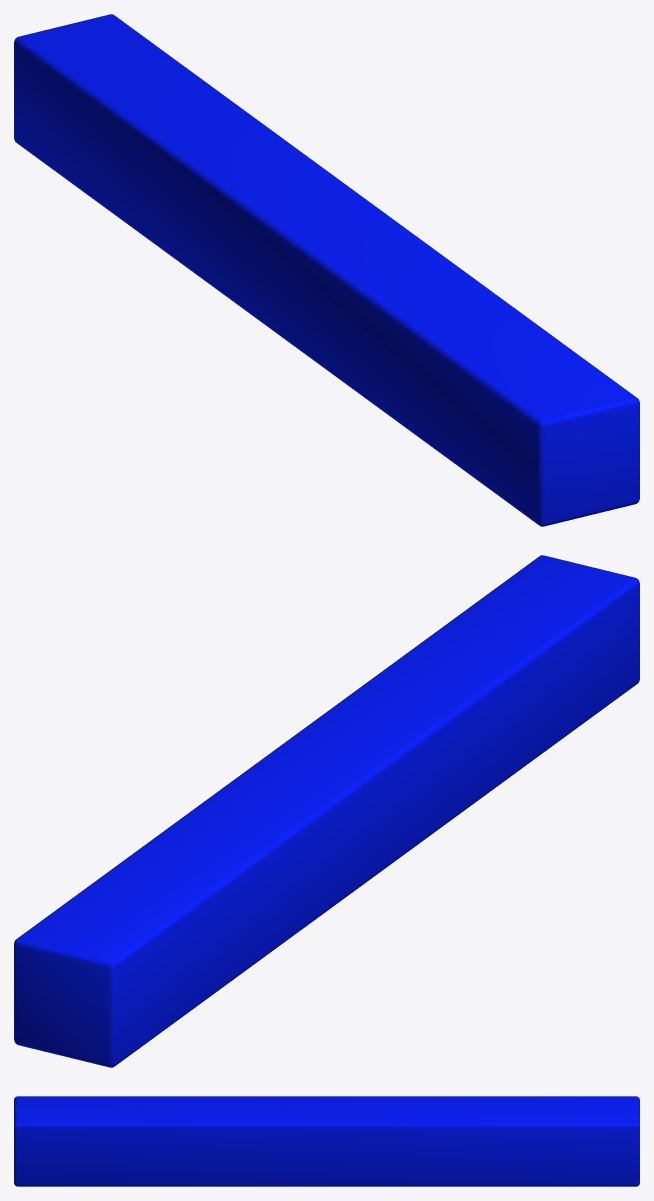
The model's file is Cuis_Blue.fbx.
The picture shows the model from 3 angles, top to bottom: view 1: azimuth 30°, elevation 25°; view 2: azimuth 150°, elevation 25°; view 3: azimuth 270°, elevation 25°; orthographic projection. The views are drawn at different scales.
Visible parts, largest first — view 1: Blue; view 2: Blue; view 3: Blue.
Boxes of the visible parts, left/top/right/bottom form: Blue: left=14, top=14, right=639, bottom=526; Blue: left=14, top=555, right=639, bottom=1067; Blue: left=14, top=1096, right=639, bottom=1186.
Size of the model in its own units: 1 by 1 by 9.
